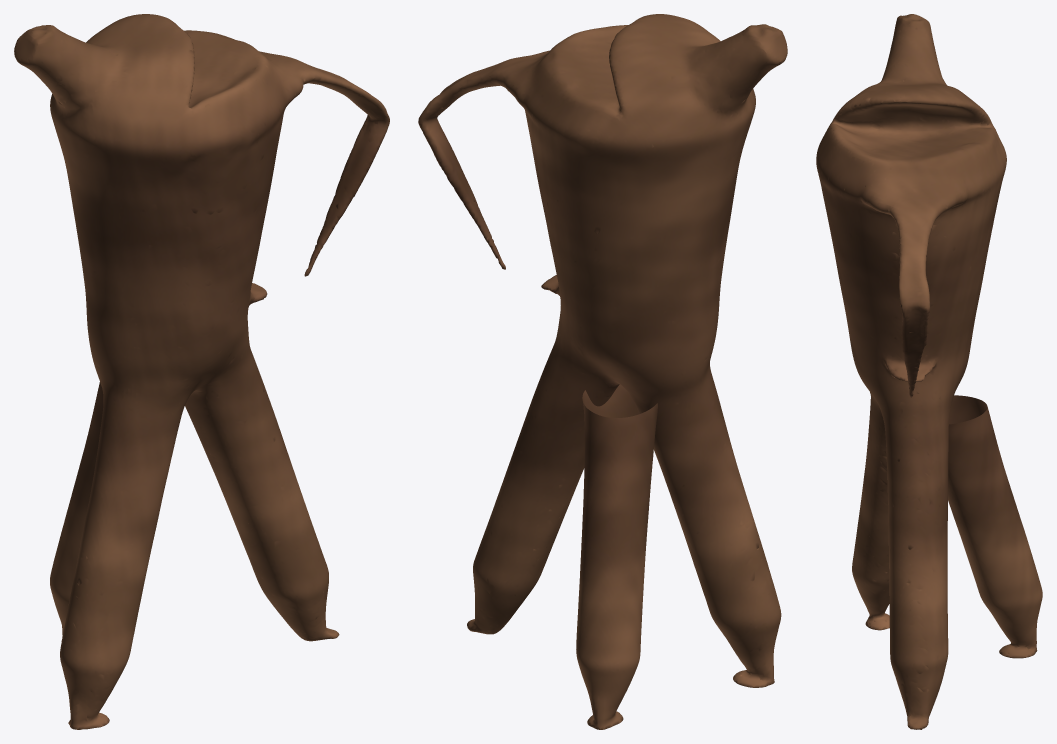
The model's file is taohe.glb.
3 views of the same model, side by side, from view 1: azimuth 30°, elevation 25°; view 2: azimuth 150°, elevation 25°; view 3: azimuth 270°, elevation 25° (orthographic). The views are drawn at different scales.
Visible parts, largest first — view 1: model; view 2: model; view 3: model.
Boxes of the visible parts, left/top/right/bottom form: model: left=14, top=14, right=389, bottom=729; model: left=418, top=14, right=787, bottom=729; model: left=816, top=14, right=1042, bottom=729.
Bounding box in the file's own units: 0.5562 × 1 × 0.3453.
